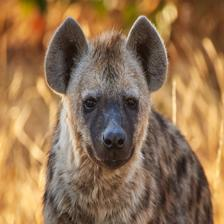hyena: (41, 13, 215, 224)
